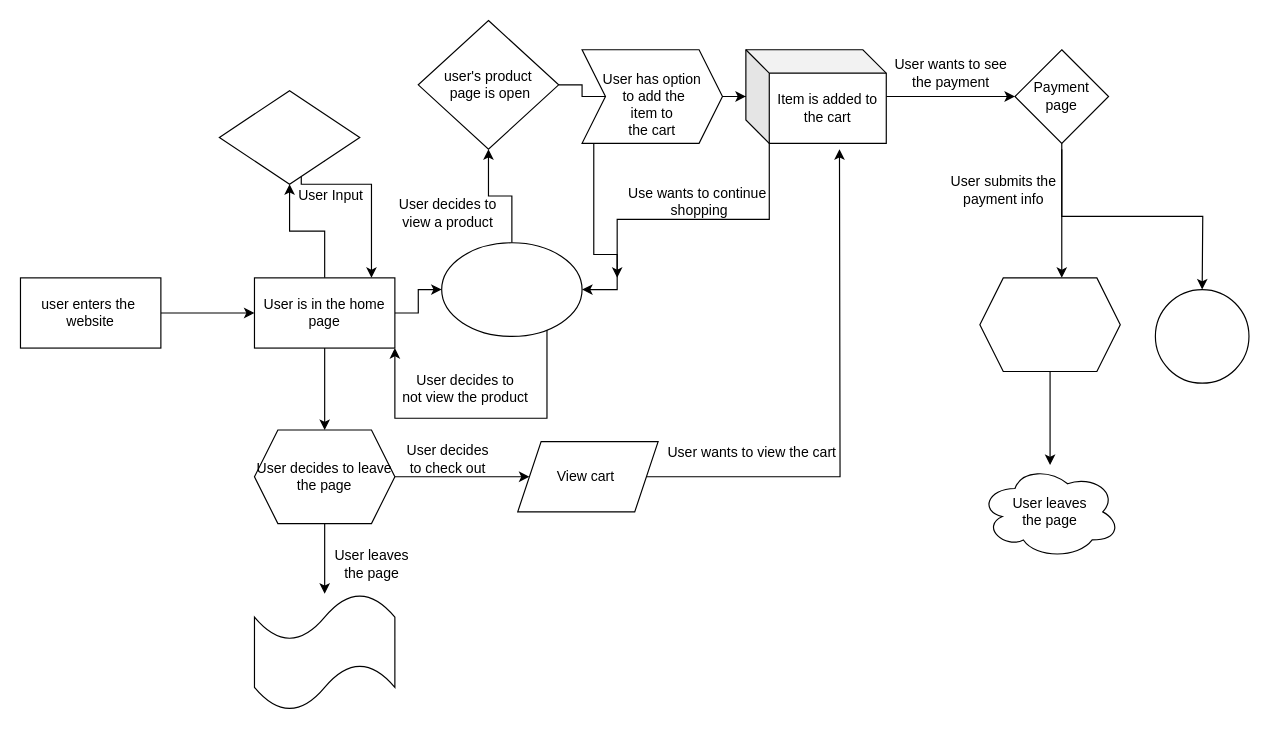
Some shapes in this 1269 by 731 pixel diagram are drawn without their labels. Here are the shapes that lost their labels. From the top down, the centre of each, then its label:
the point at 289,137: User searches for products
the point at 511,289: User is offerd products to choose from
the point at 1049,324: order confirmation page
the point at 1201,335: email confirmation is sent
the point at 324,652: User does't have item or does not want iteto check
